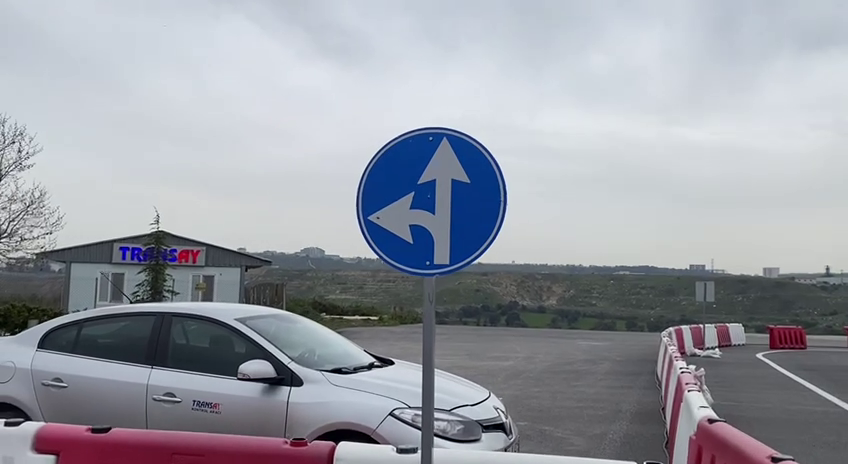forwardAndLeft: (349, 126, 511, 279)
